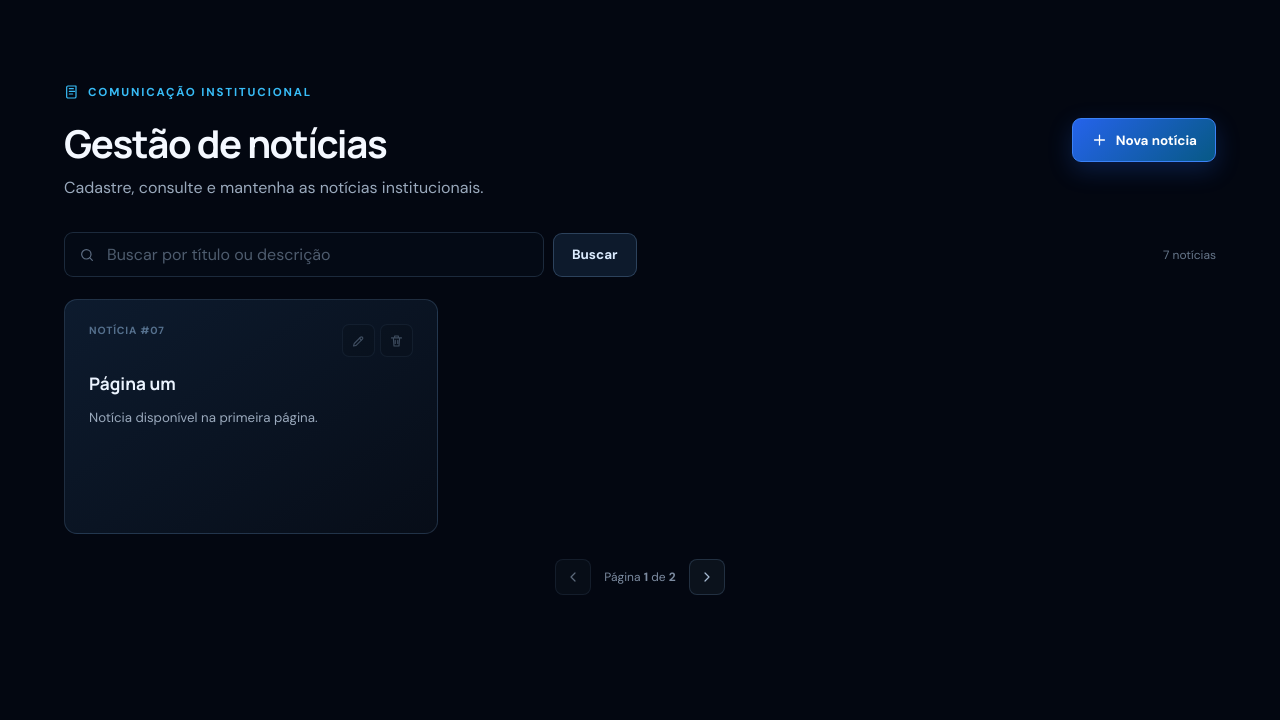
Scenario: Feature: consistência da paginação de notícias › Dada a segunda página, quando criar uma notícia, então retorna à primeira página
Expected: the heading "Página um" is shown, [89,372,176,395]
Click the button named "Próxima página" at x=707, y=577, box [689,559,725,595]
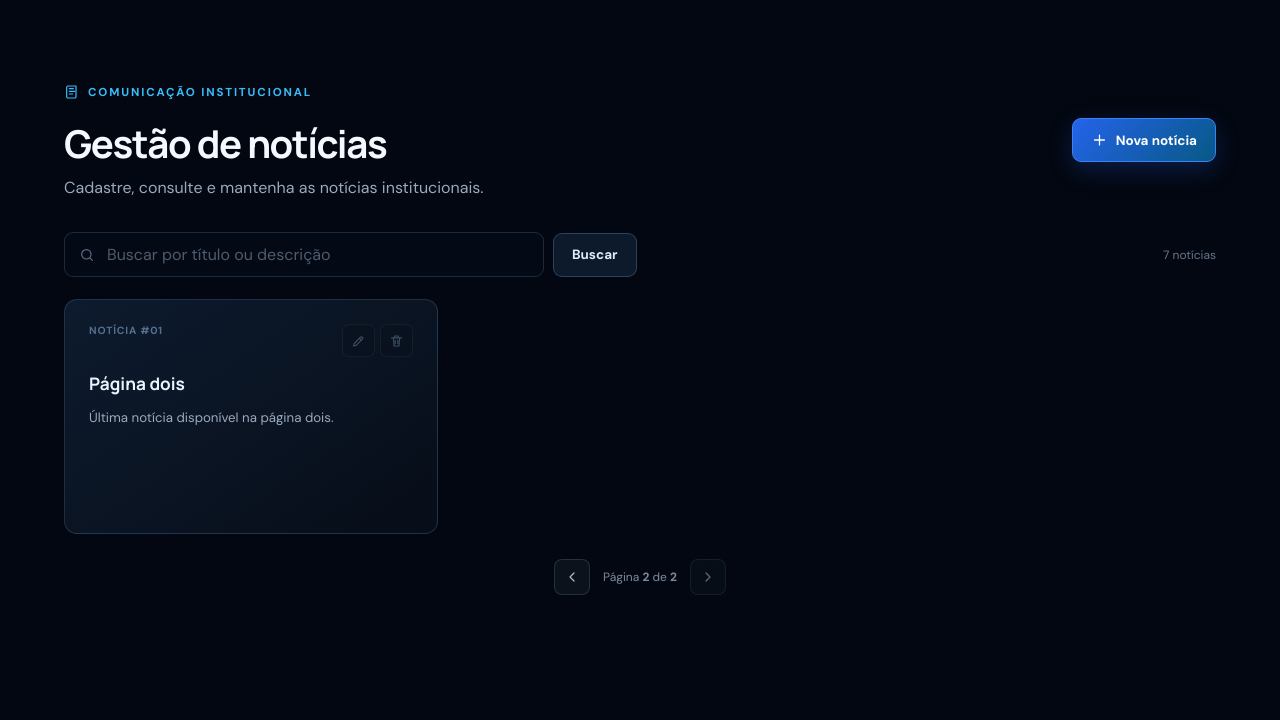
Expected: the heading "Página dois" is shown, [89,372,185,395]
Click the button "Nova notícia" at x=1144, y=140, box [1072,118,1216,162]
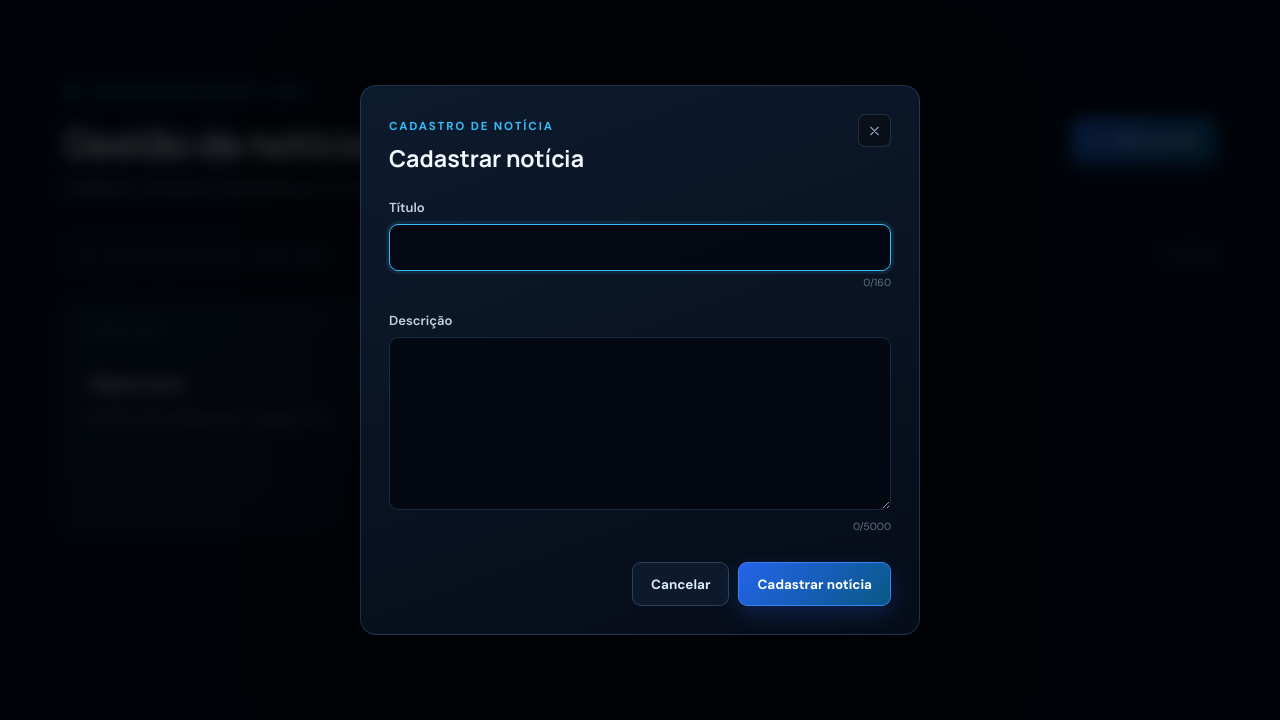
Type "Nova notícia" into the field labelled "Título" at x=640, y=248, box [389,224,891,271]
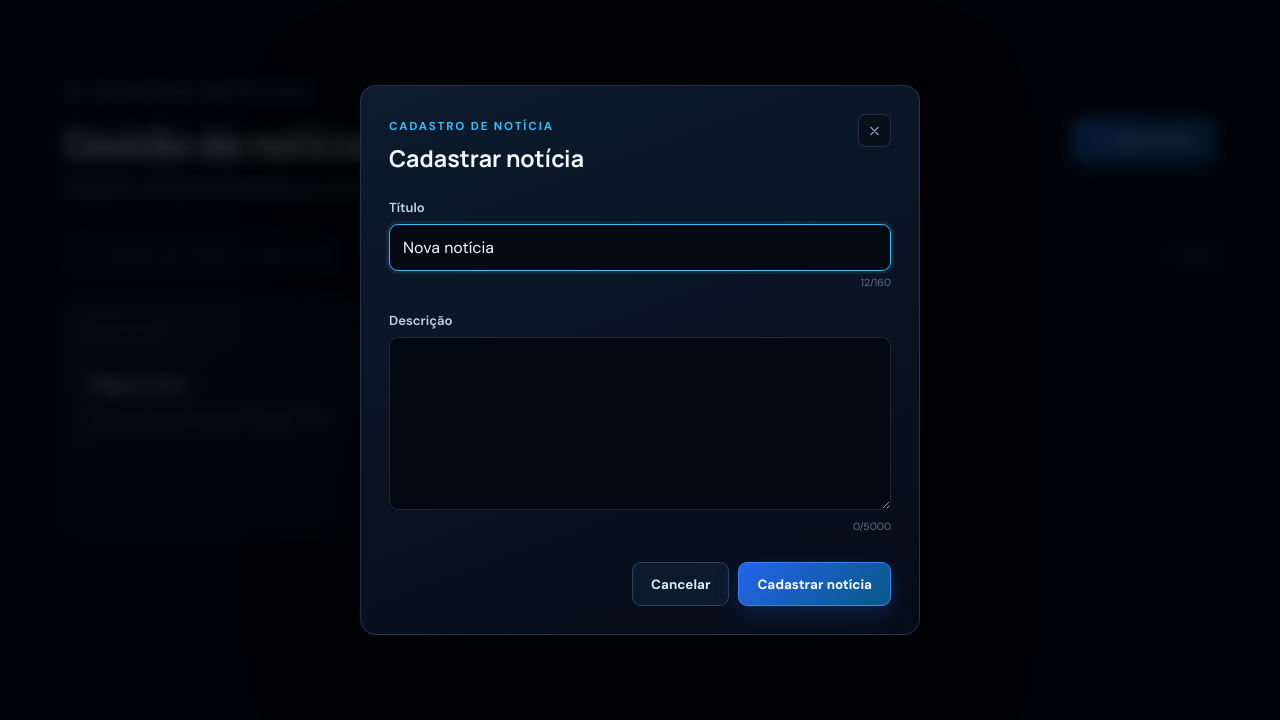
Type "Descrição completa da nova notícia publicada." into the text box labelled "Descrição" at x=640, y=424, box [389,337,891,510]
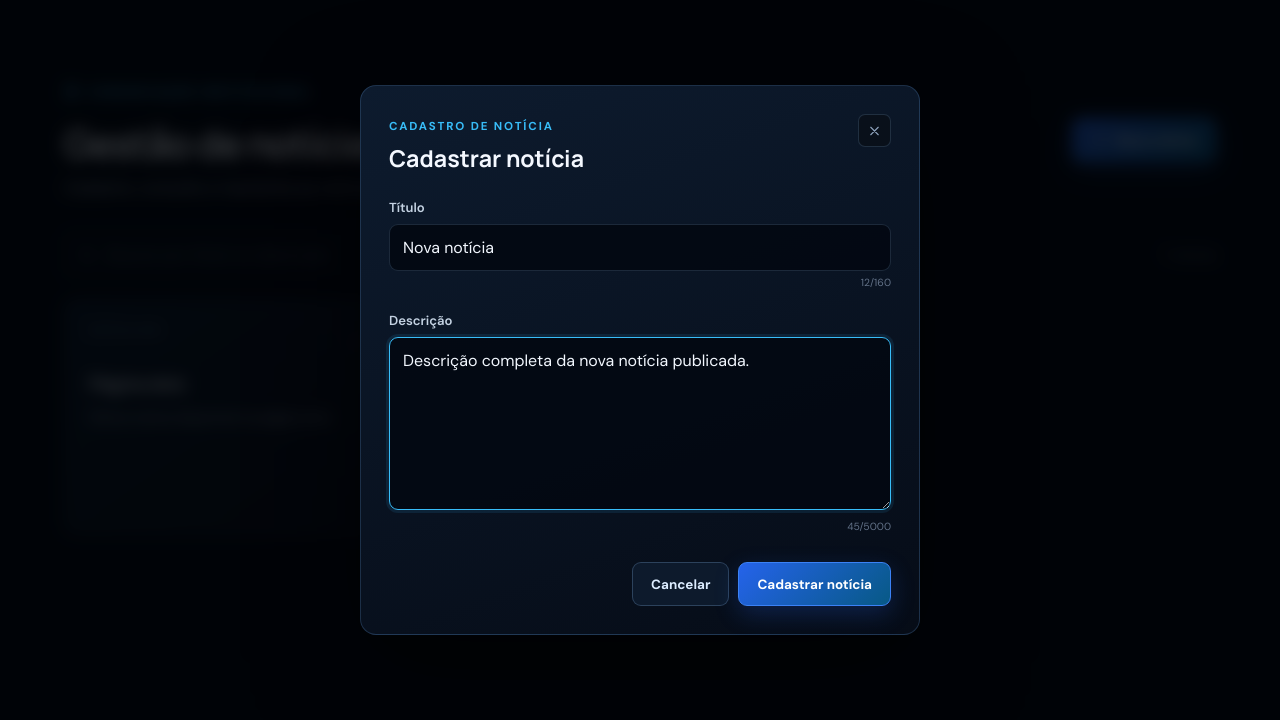
Click the button "Cadastrar notícia" at x=815, y=584, box [738,562,891,606]
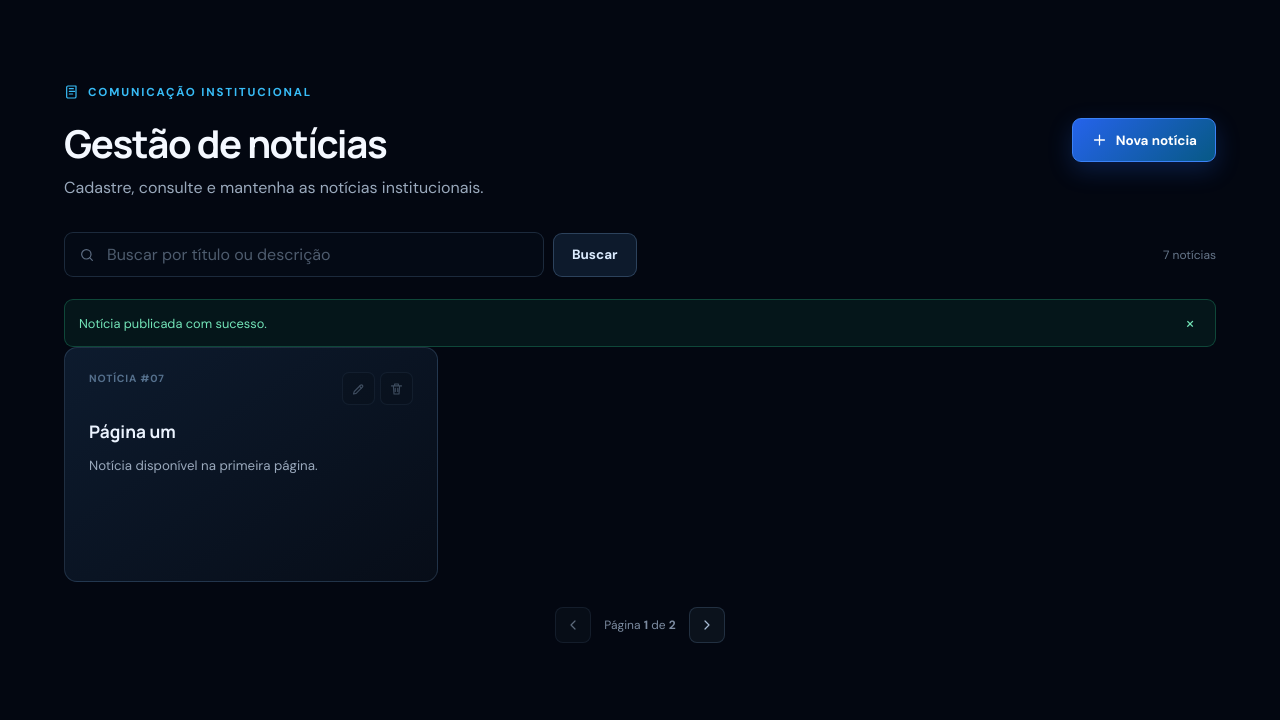
Expected: the text "Notícia publicada com sucesso." is shown, [79,314,267,332]
